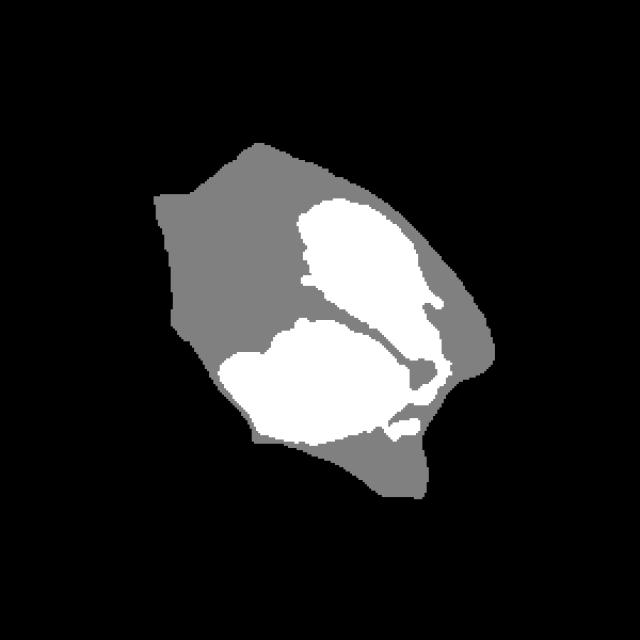WBC: (128, 132, 535, 525)
